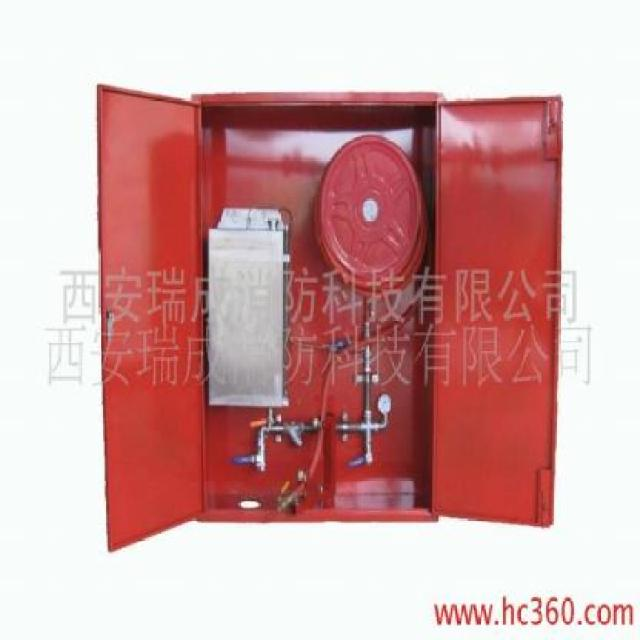firehydrant: (94, 76, 568, 562)
